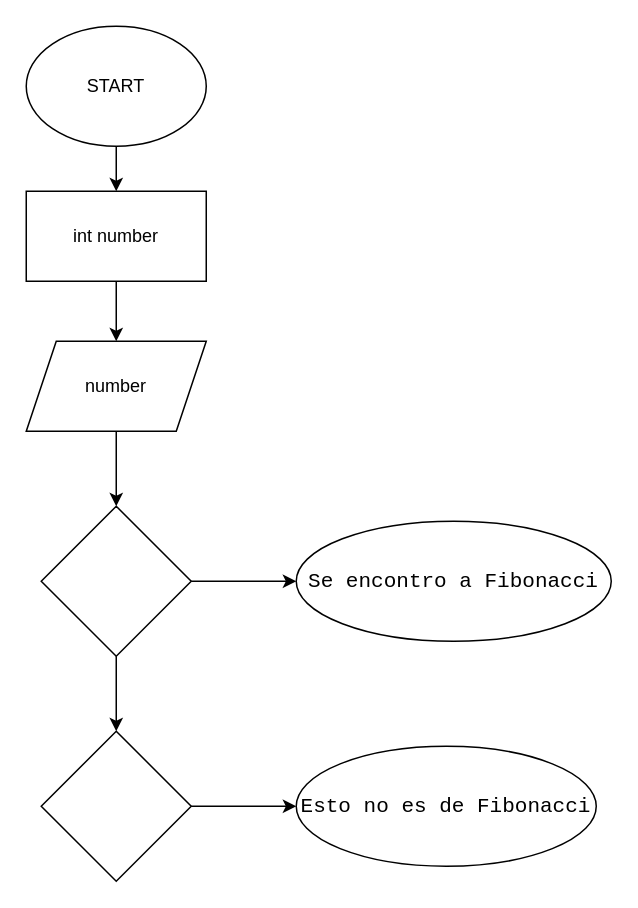
The diagram is 638 pixels wide and 908 high, and some of its shapes have lost their labels. Each missing label, with the centre of its shape:
else: [115,805]
number == 11235813: [115,580]
